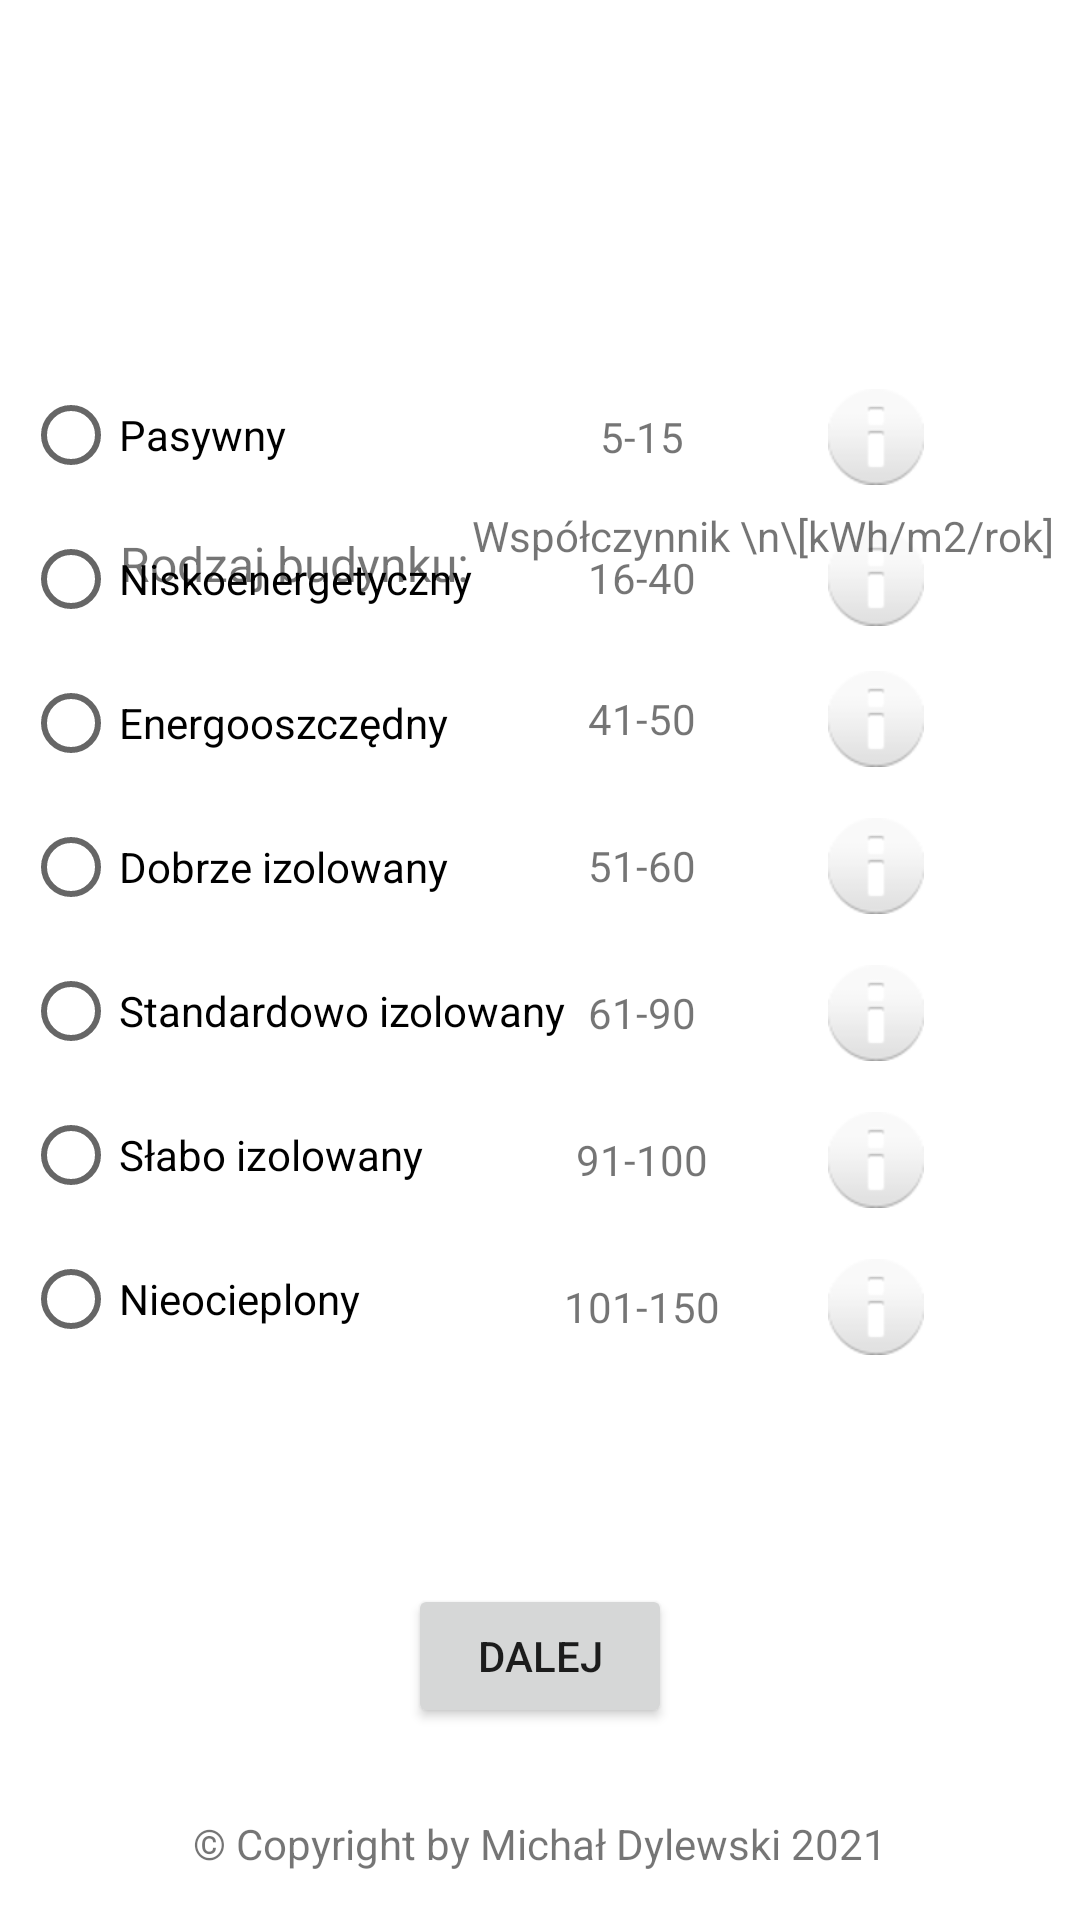

Icon click points for this 1080*1920 phone screenshot, format point (x, y):
info: point (876, 446), point (876, 598), point (876, 728), point (876, 875), point (876, 1022), point (876, 1169), point (876, 1316)
